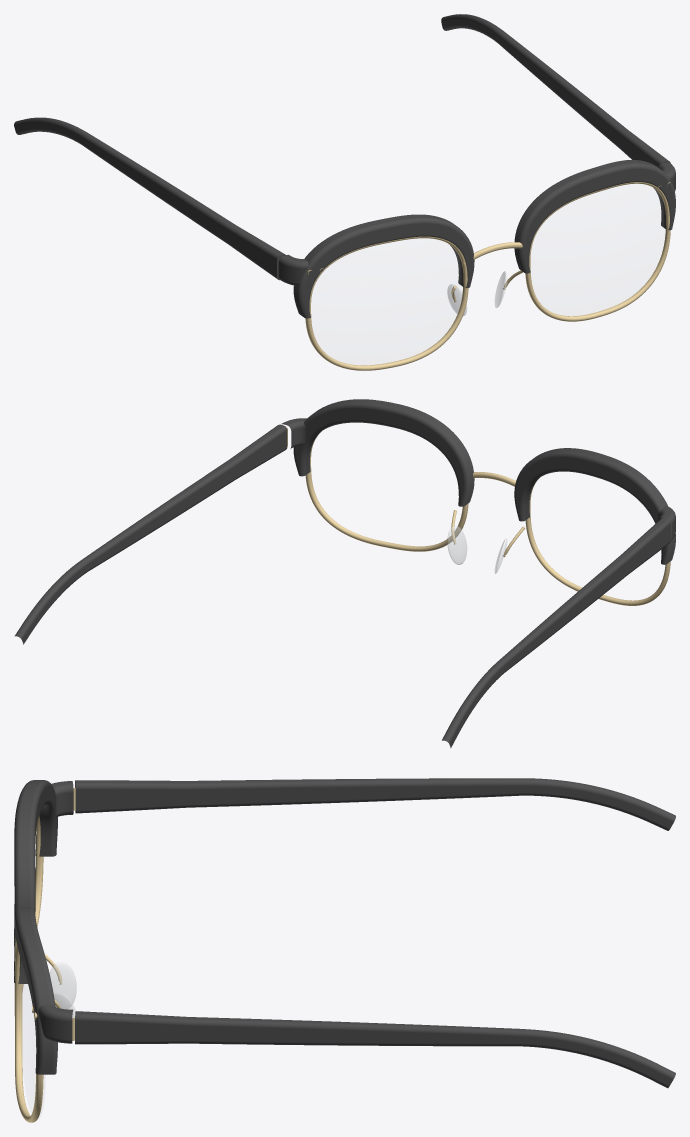
File: r-browline.glb
The picture shows the model from 3 angles, top to bottom: view 1: azimuth 30°, elevation 25°; view 2: azimuth 150°, elevation 25°; view 3: azimuth 270°, elevation 25°; orthographic projection. The views are drawn at different scales.
Visible parts, largest first — view 1: Frame, Metal, NosePad; view 2: Frame, Metal, NosePad; view 3: Frame, Metal, NosePad.
Part boxes in pixels (x1=…): Frame: x1=14, y1=14, x2=675, y2=318; Metal: x1=305, y1=182, x2=670, y2=370; NosePad: x1=447, y1=271, x2=507, y2=316; Frame: x1=15, y1=399, x2=675, y2=748; Metal: x1=287, y1=428, x2=670, y2=605; NosePad: x1=447, y1=526, x2=507, y2=573; Frame: x1=14, y1=778, x2=675, y2=1088; Metal: x1=14, y1=787, x2=75, y2=1122; NosePad: x1=49, y1=961, x2=76, y2=1017.
Size of the model in its own units: 148 by 47.4 by 158.
